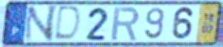2: (83, 5, 112, 43)
6: (171, 6, 195, 41)
9: (144, 7, 166, 40)
D: (52, 5, 83, 43)
N: (22, 4, 60, 44)
R: (110, 6, 142, 42)
